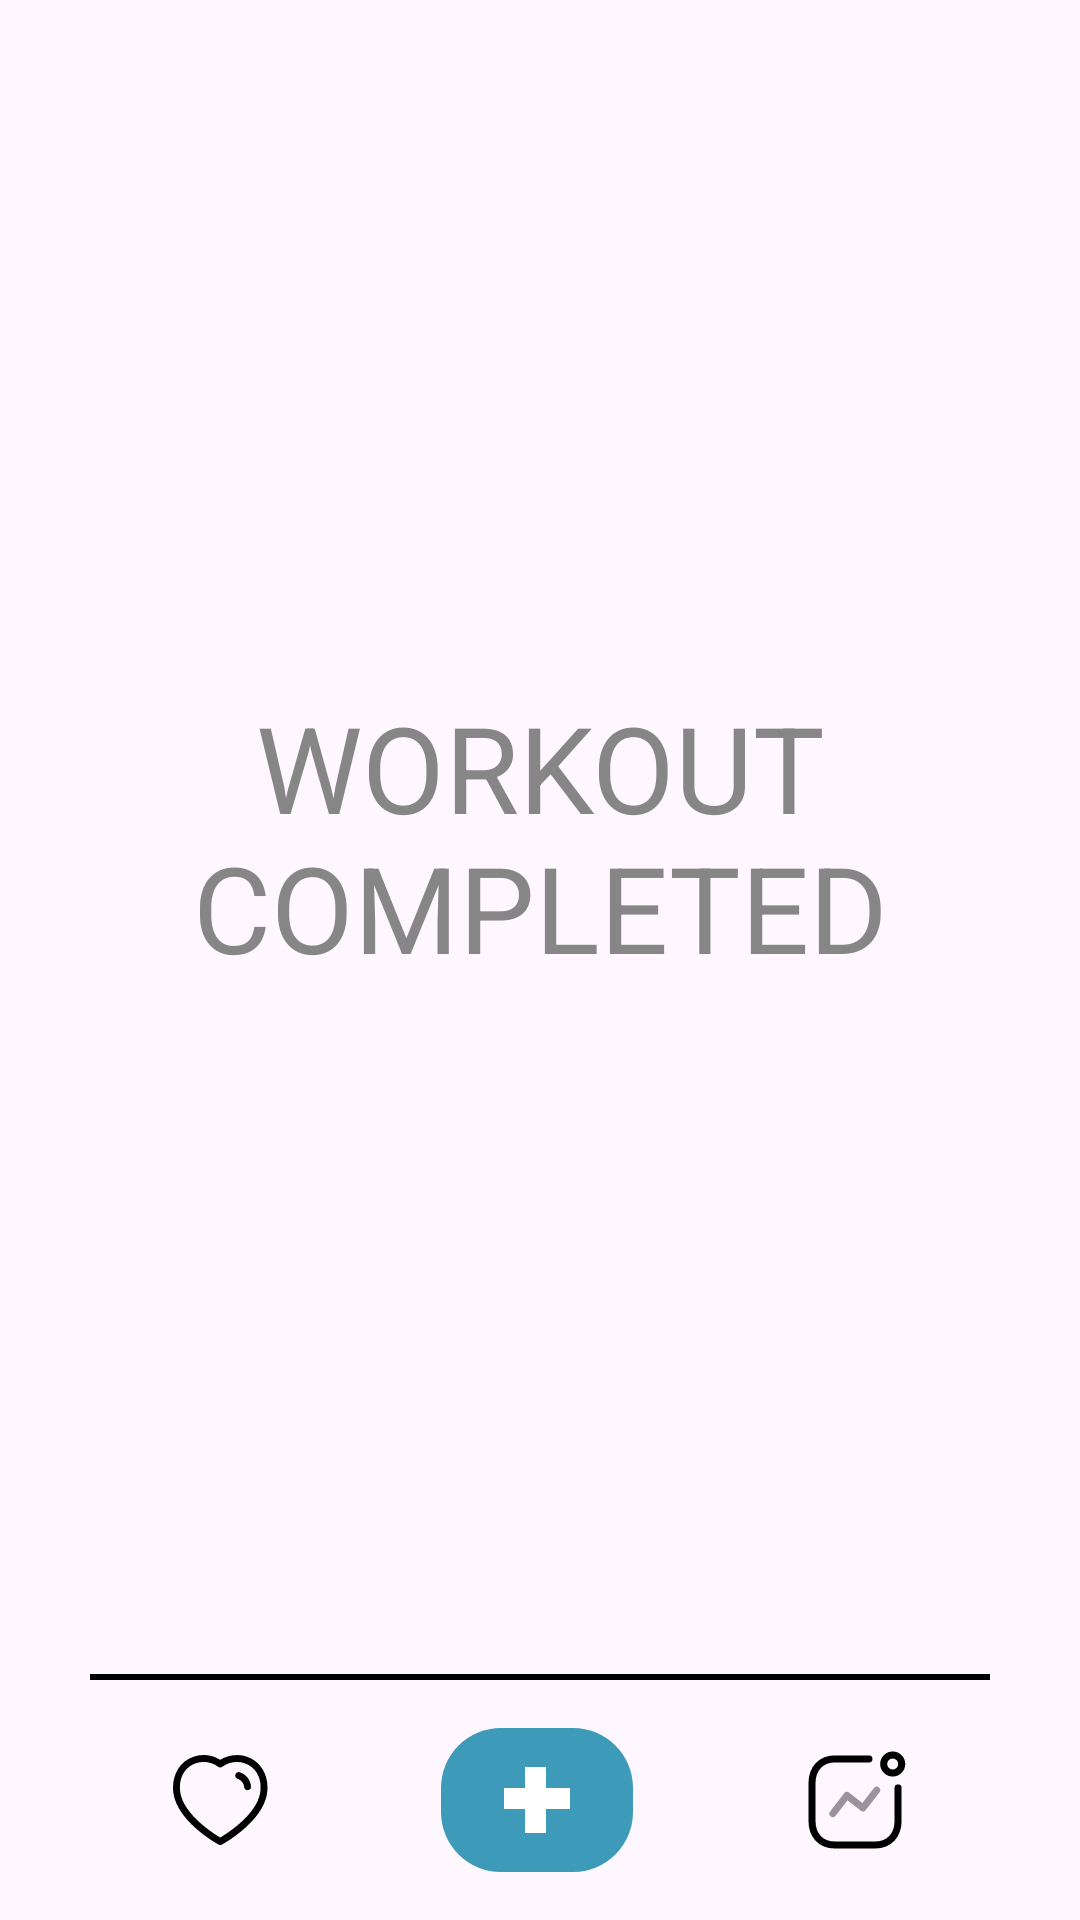

Locate icon controls on the screen. Image size 1080px×1920px, boxes as (x1,y1,x2,y2).
addition: (441,1728,633,1872)
heart: (173,1755,268,1845)
progress: (808,1751,906,1849)
